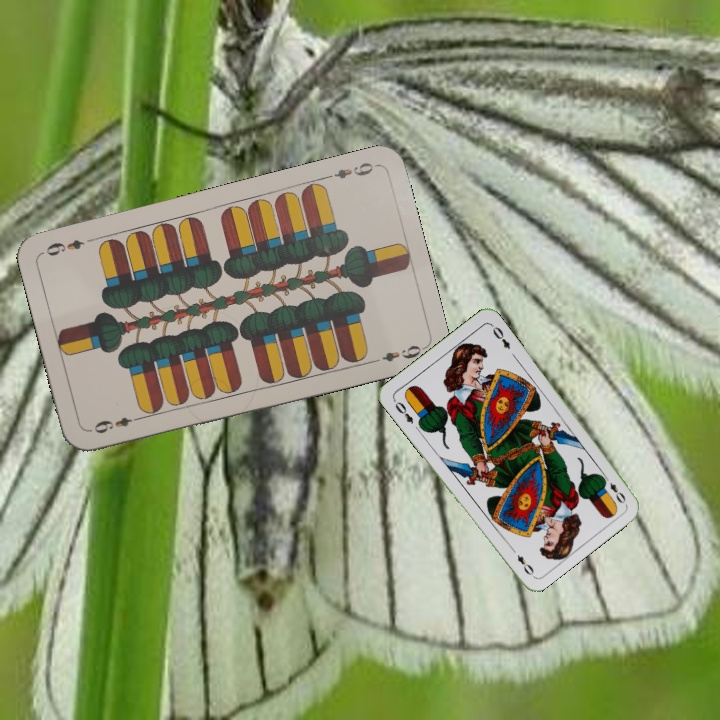E9: (321, 158, 379, 182), (89, 412, 144, 436)
EO: (599, 471, 629, 506), (389, 395, 416, 426)
